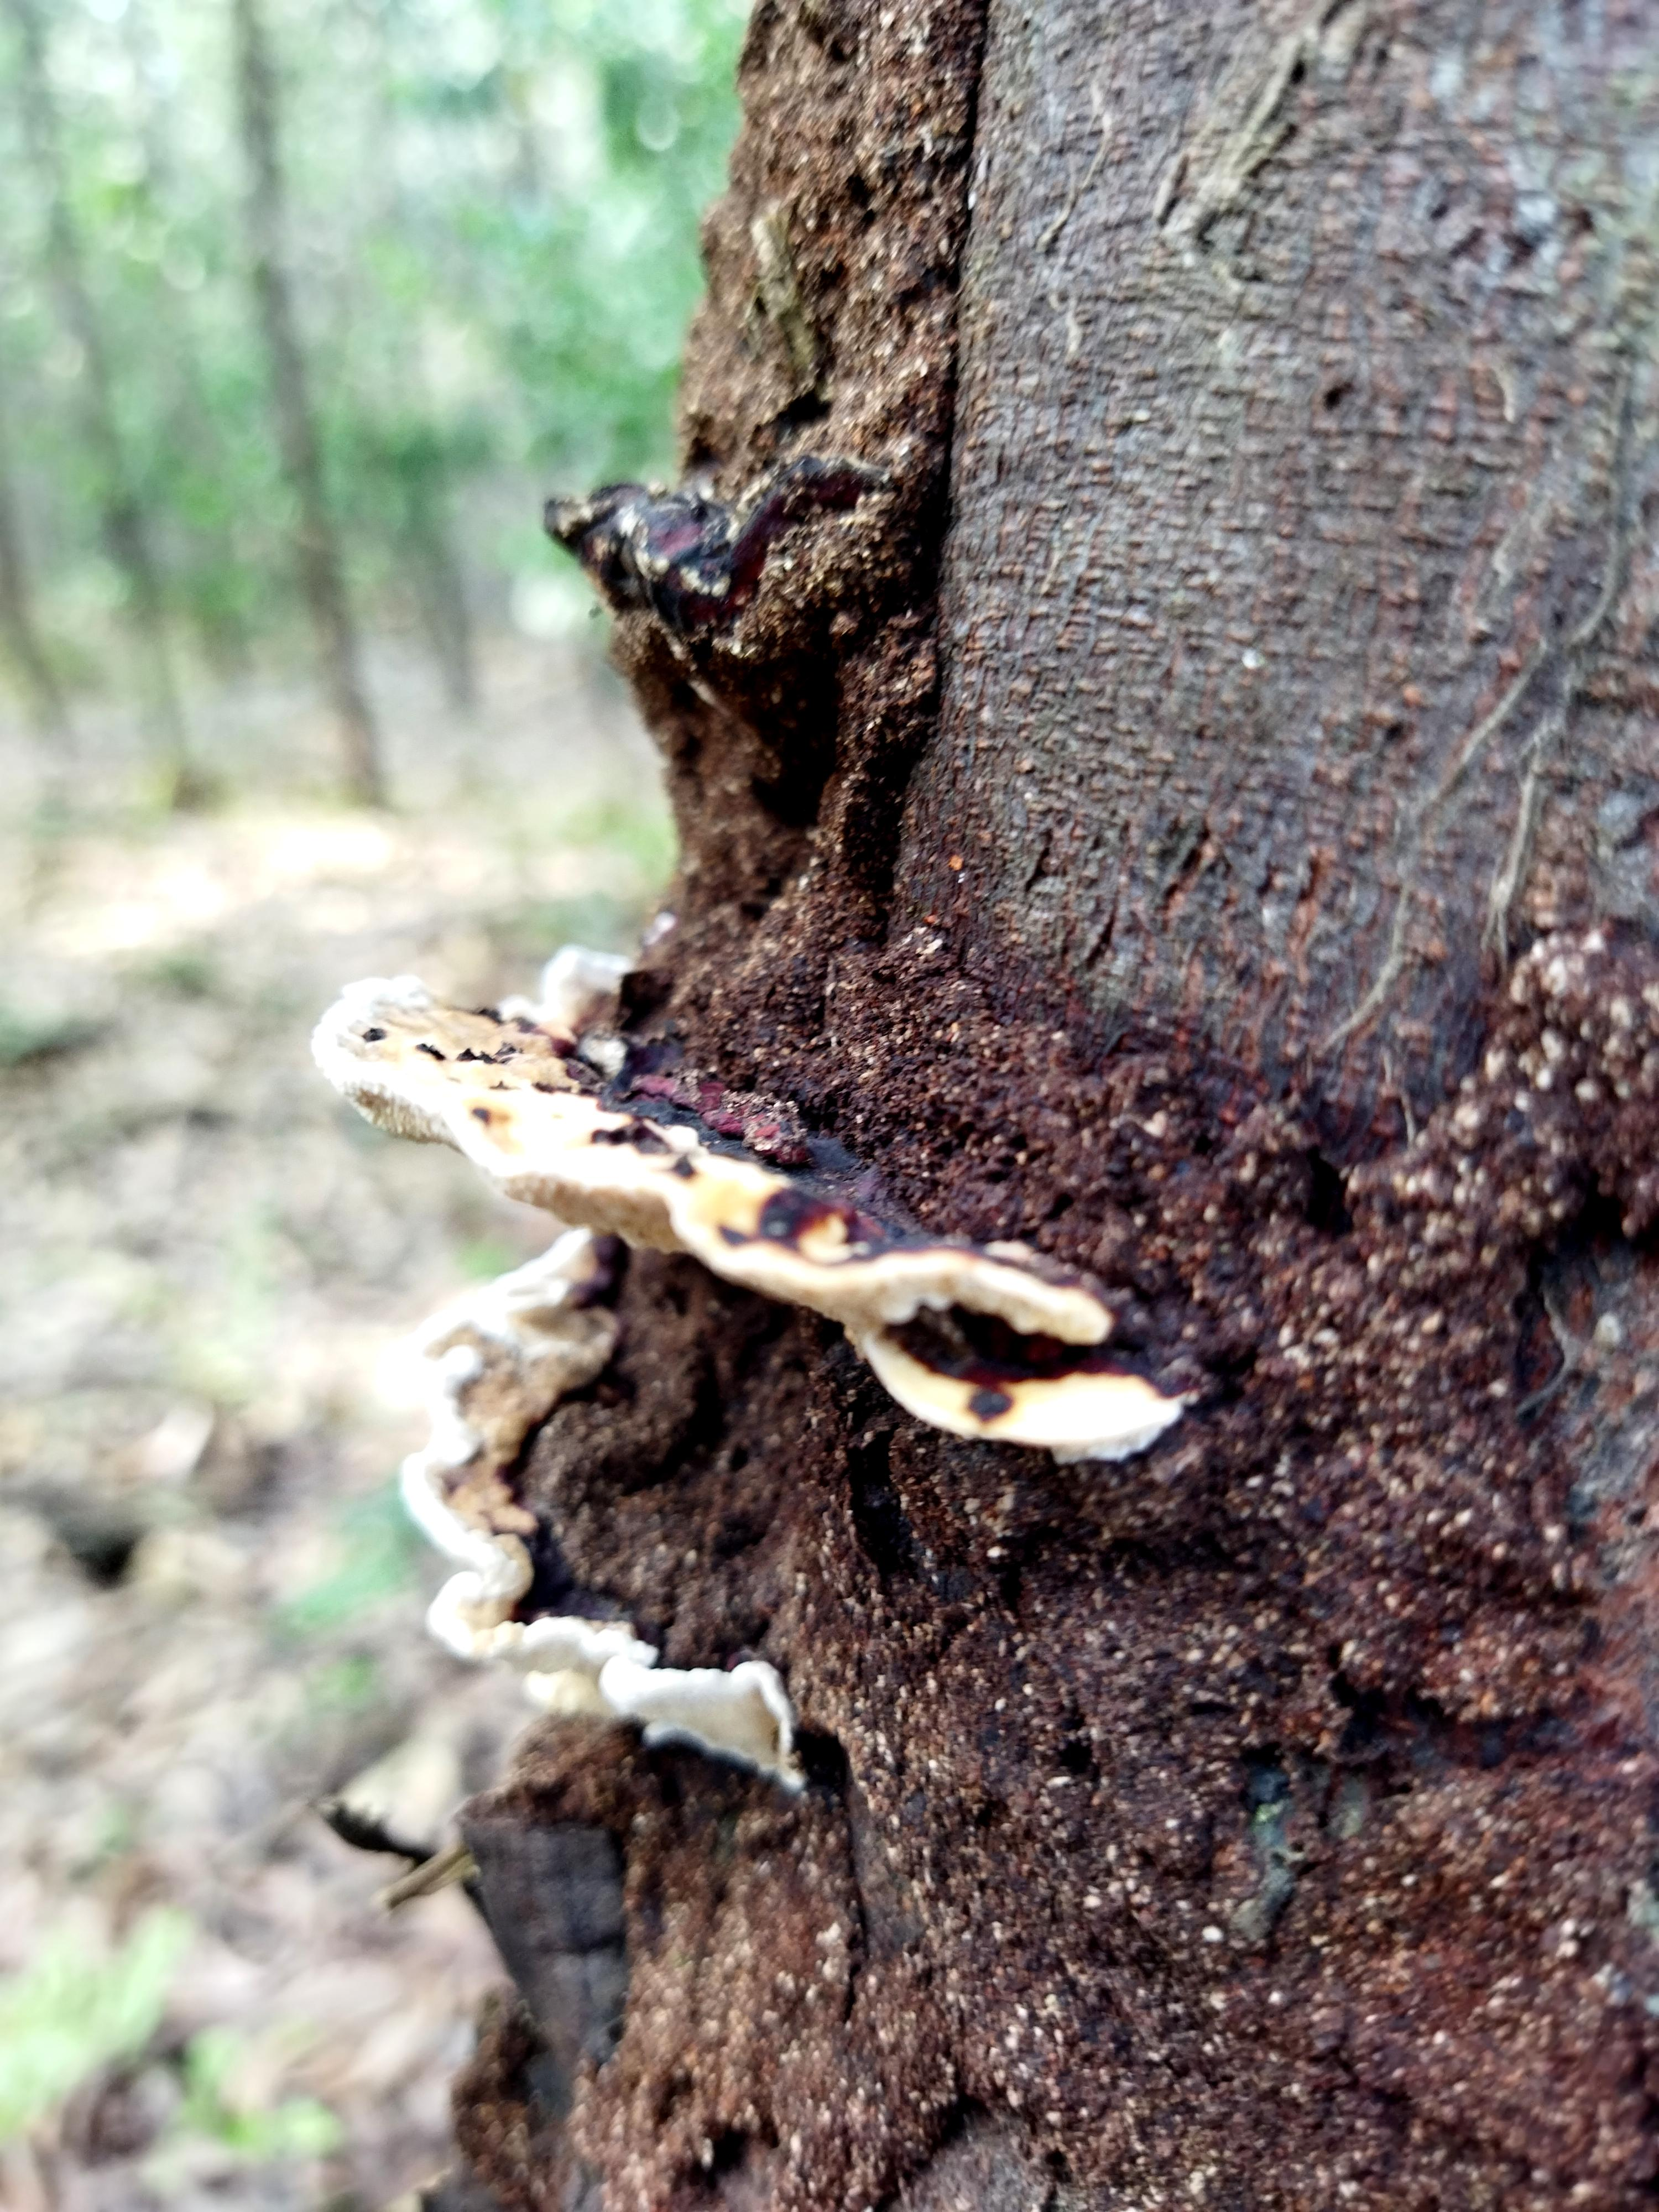Ganoderma - Fruit Body: (295, 963, 1236, 1474), (389, 1477, 842, 1787)
